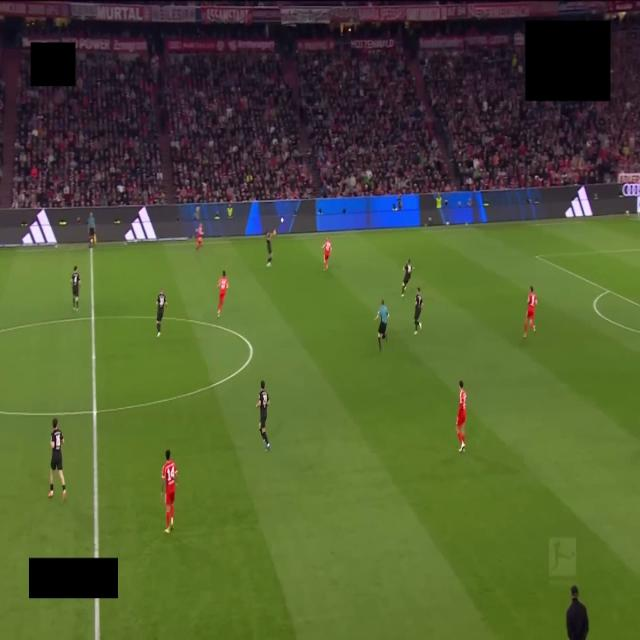ball: (280, 217, 283, 223)
player: (161, 450, 177, 533), (49, 419, 65, 499), (257, 381, 270, 450), (456, 381, 466, 452), (524, 287, 537, 338), (414, 287, 424, 335), (218, 271, 228, 317), (157, 288, 166, 337), (71, 266, 80, 311), (402, 259, 412, 296), (266, 230, 276, 267), (323, 238, 332, 270), (196, 224, 203, 249)
referee: (375, 300, 388, 351)
